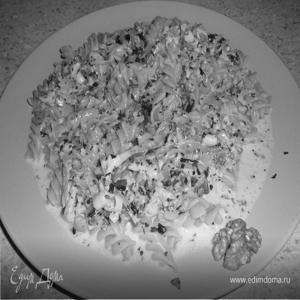pasta: (34, 12, 270, 261)
